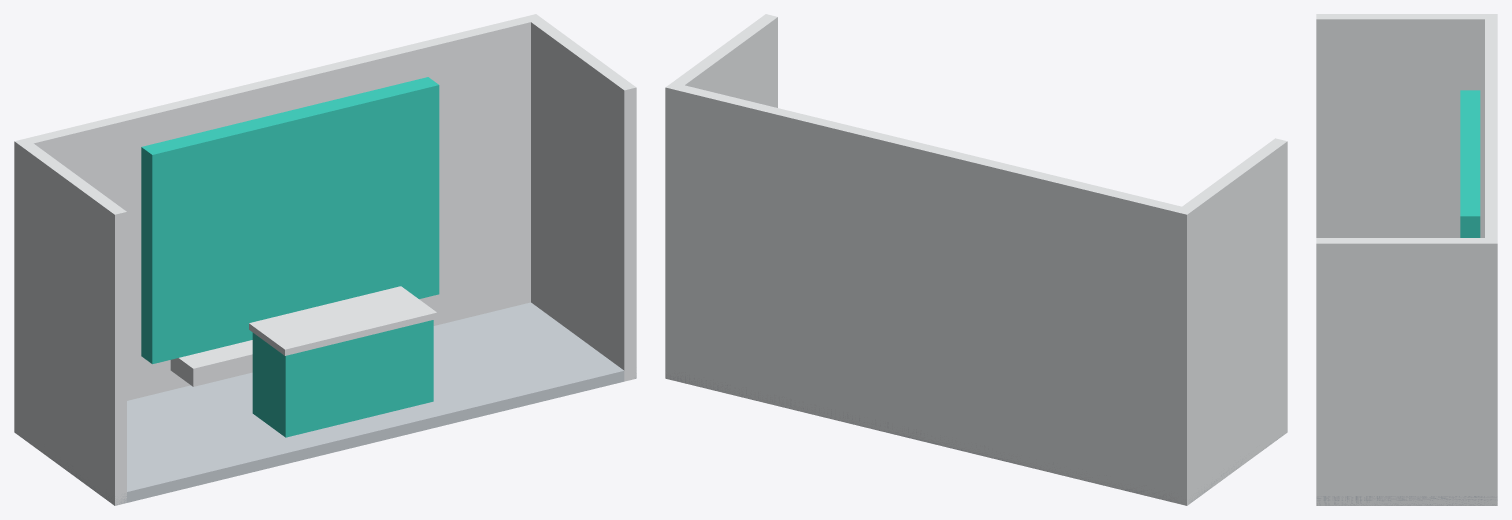
The picture shows the model from 3 angles, left to right: view 1: azimuth 30°, elevation 25°; view 2: azimuth 150°, elevation 25°; view 3: azimuth 270°, elevation 25°; orthographic projection. The views are drawn at different scales.
Parts seen in each view (by area): view 1: Exhibition Booth Concept; view 2: Exhibition Booth Concept; view 3: Exhibition Booth Concept.
Boxes of the visible parts, x1,y1,x2,y2 form: Exhibition Booth Concept: (14, 14, 636, 505); Exhibition Booth Concept: (665, 14, 1287, 505); Exhibition Booth Concept: (1316, 14, 1497, 505).
Bounding box in the file's own units: 6 × 3.2 × 2.
